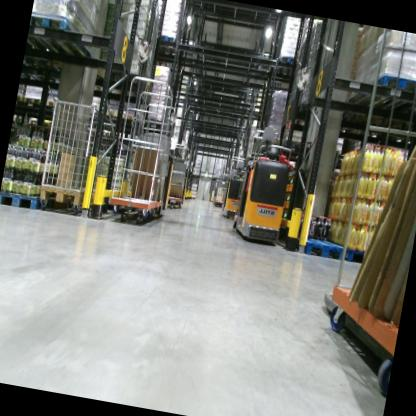pallet: (25, 12, 102, 67), (348, 69, 416, 120), (36, 173, 106, 214), (283, 227, 348, 261), (0, 184, 65, 218), (338, 237, 393, 268), (21, 55, 65, 91), (271, 48, 300, 79), (154, 31, 184, 60), (104, 105, 139, 124), (403, 75, 416, 120), (96, 125, 117, 138)
pallet_truck: (96, 68, 193, 234), (226, 113, 302, 251), (156, 146, 193, 214), (216, 154, 254, 218)
